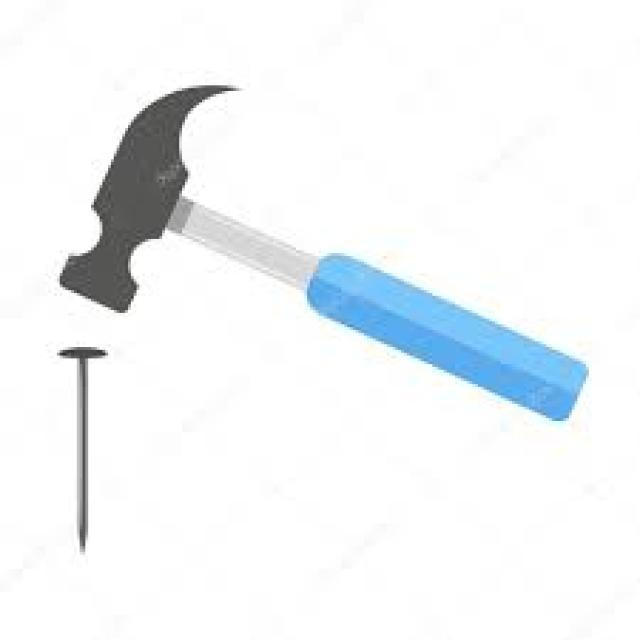Palu: (66, 57, 580, 441)
